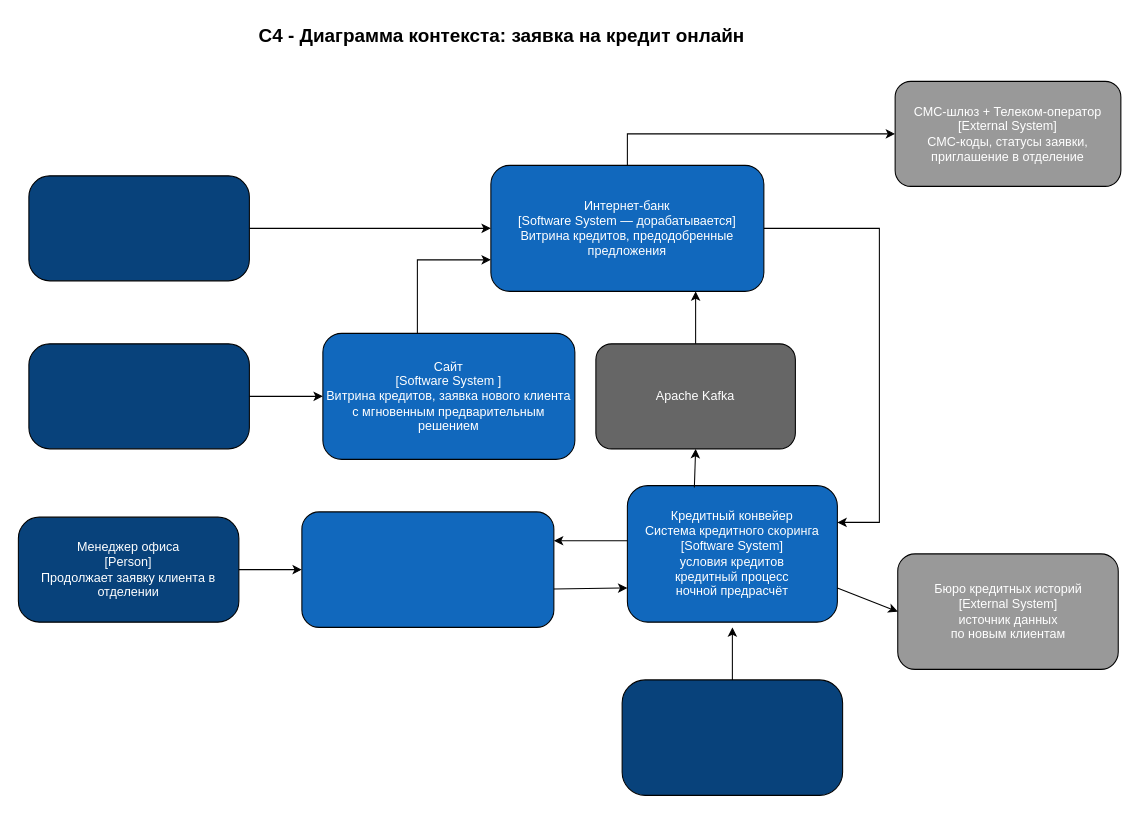
Some shapes in this 1139 by 814 pixel diagram are drawn without their labels. Each missing label, with the centre of its shape:
"АБС [Software System]" goes at pixel 427 569.
"Клиент банка [Person]" goes at pixel 138 228.
"Менеджер кредитования [Person] Обрабатывает заявки" goes at pixel 732 737.
"Новый клиент [Person]" goes at pixel 138 396.
